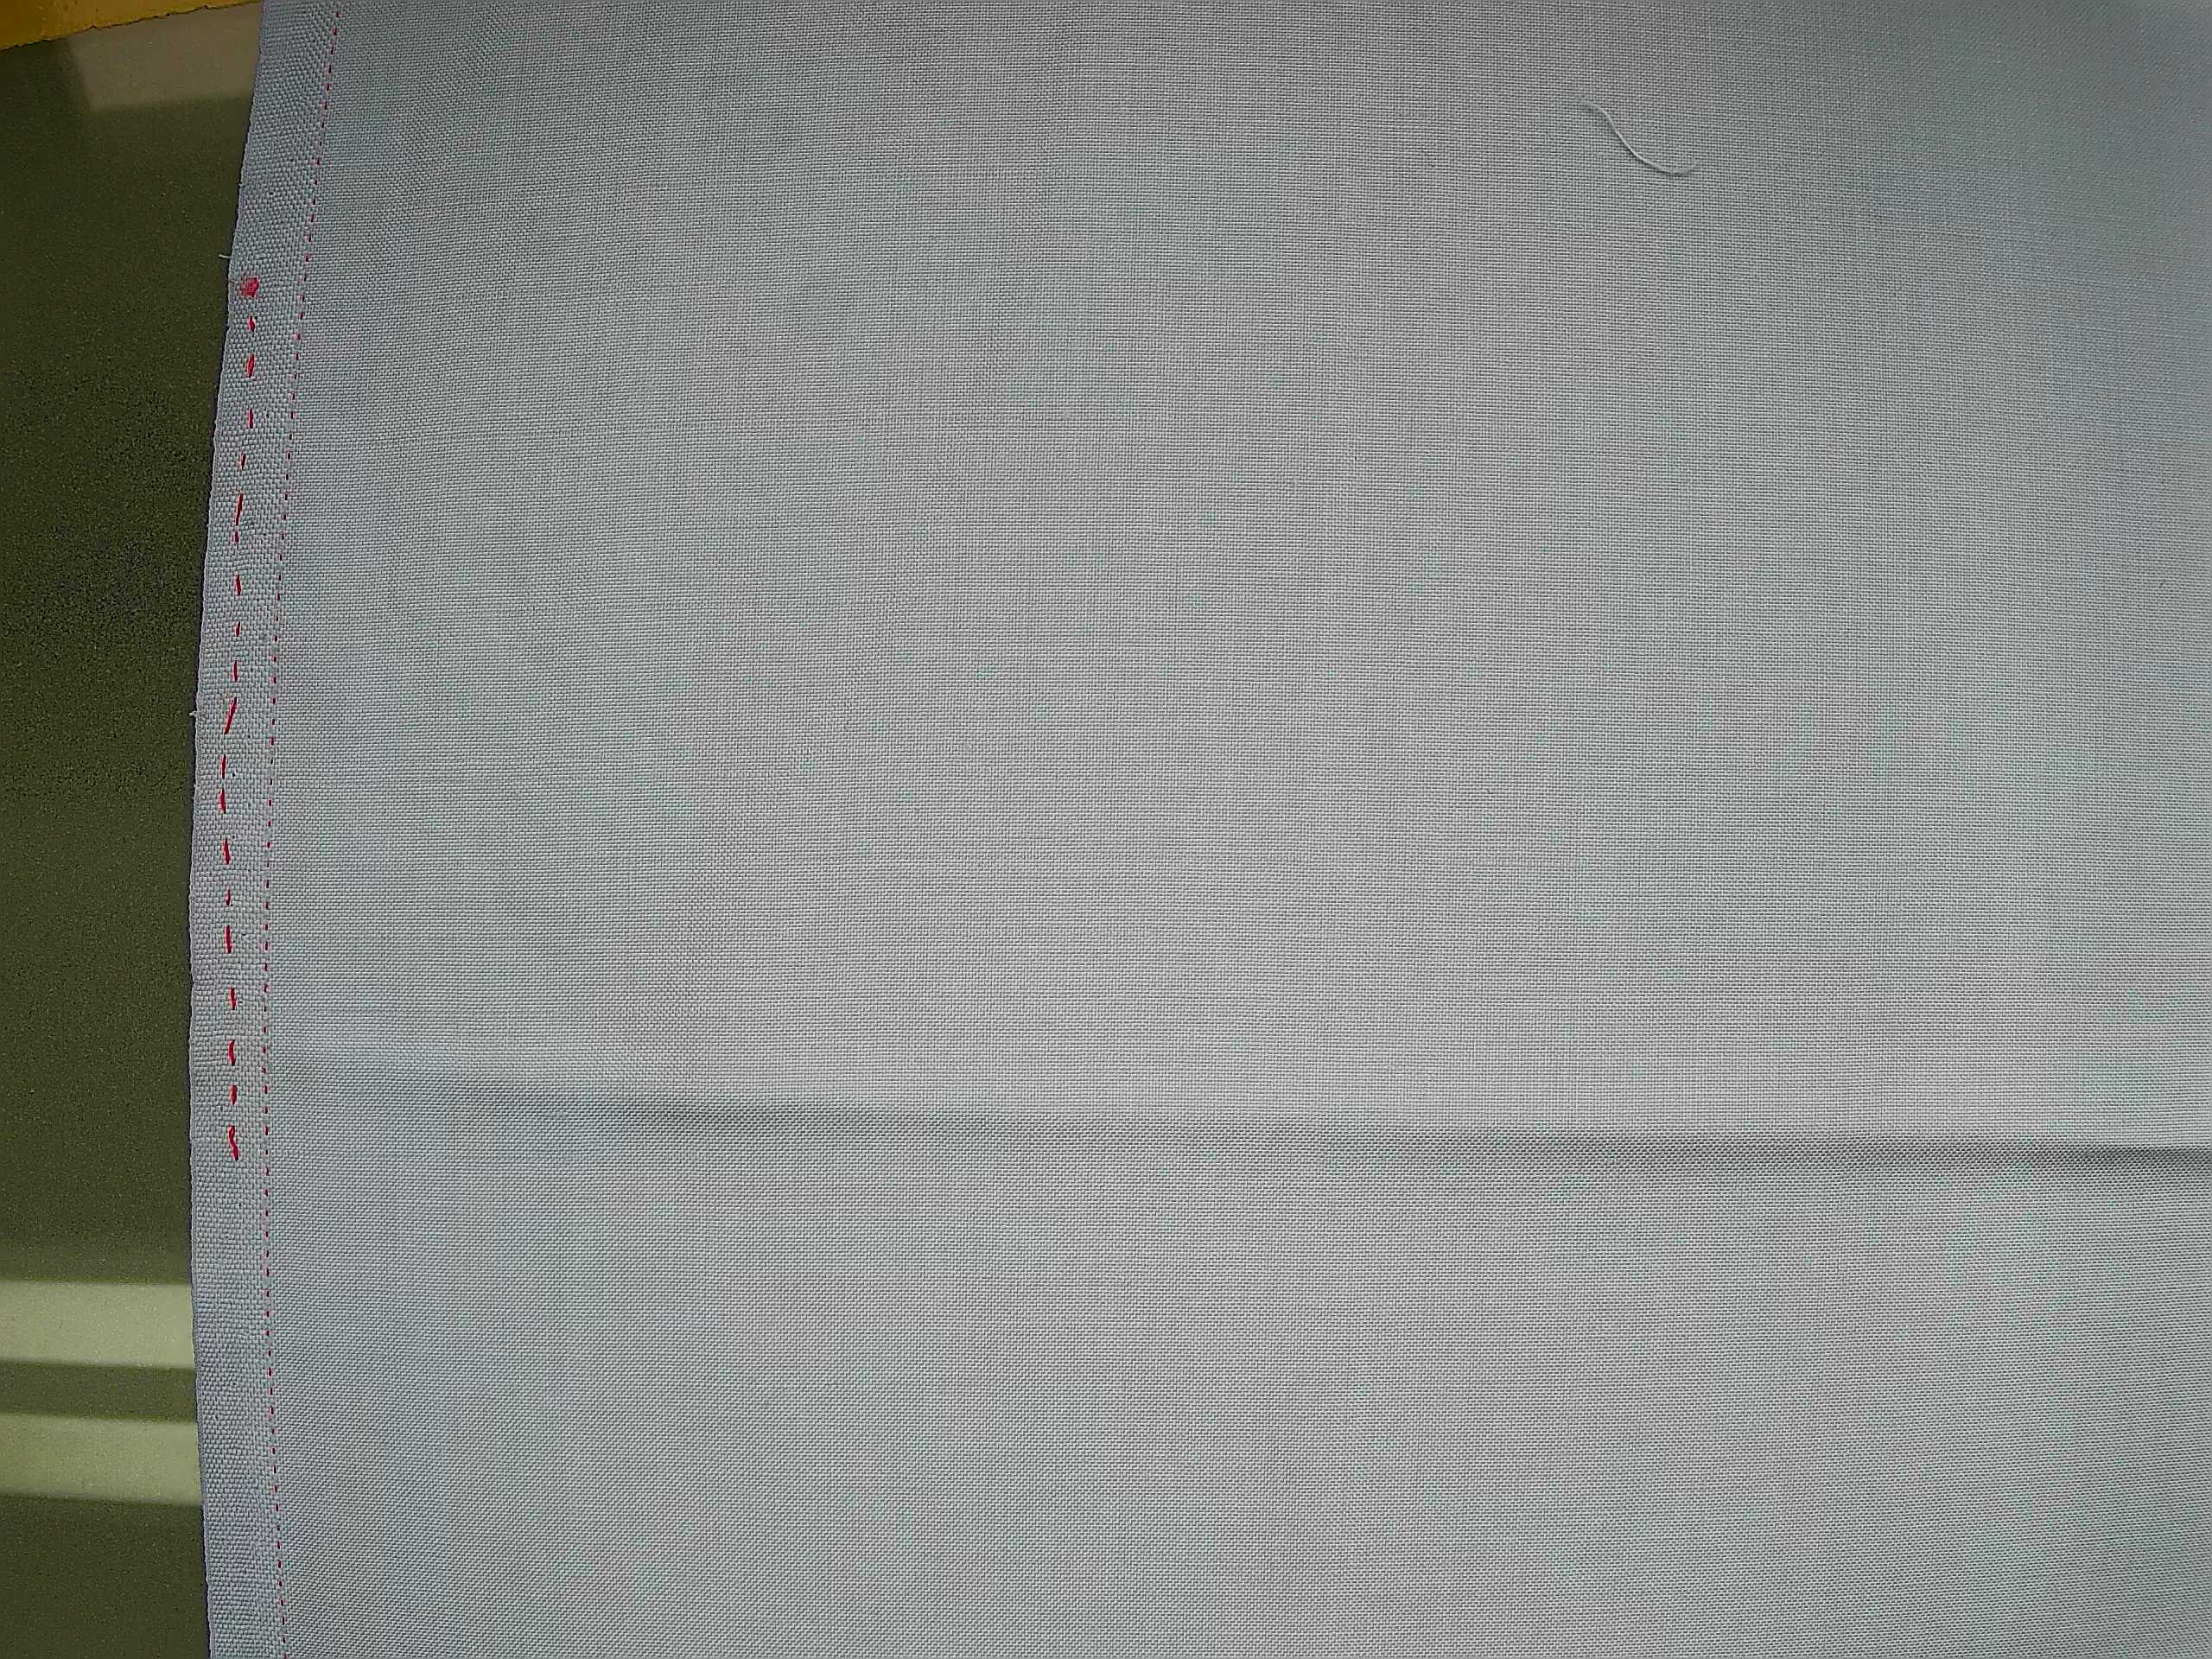others: (296, 410, 1270, 469), (320, 263, 890, 319), (310, 178, 932, 206)
